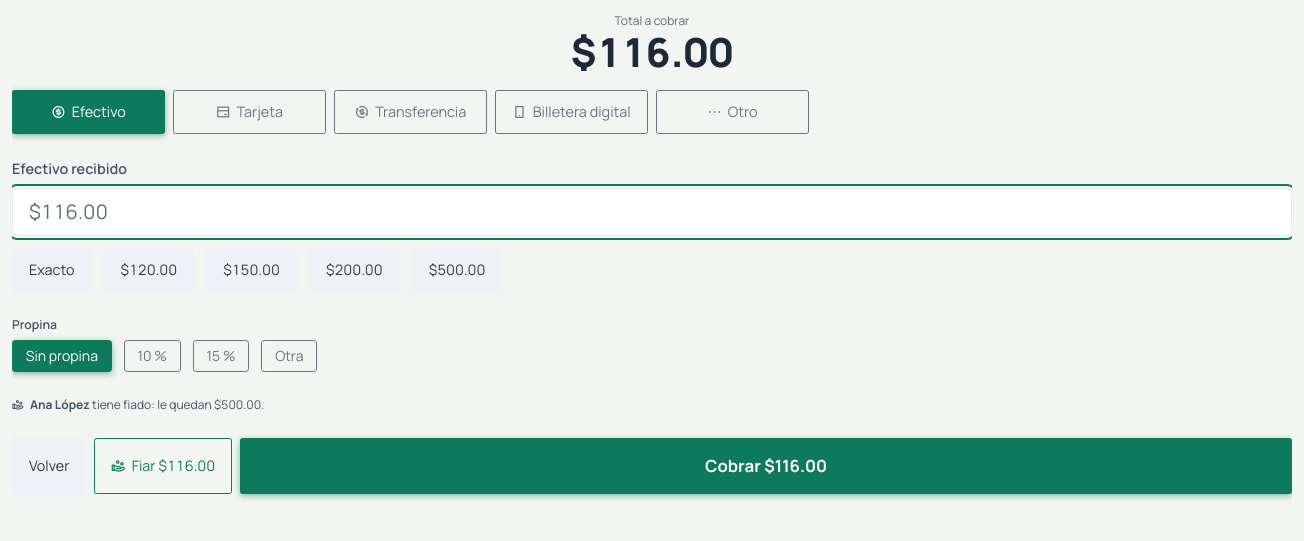
Test: ChargePanel on credit (fiado) › asks to take the tip away: a tip has no payment to go with
This screenshot has width=1304, height=541.
Click the radio button labelled "10 %" at (152, 356), box 124,340 -> 181,372
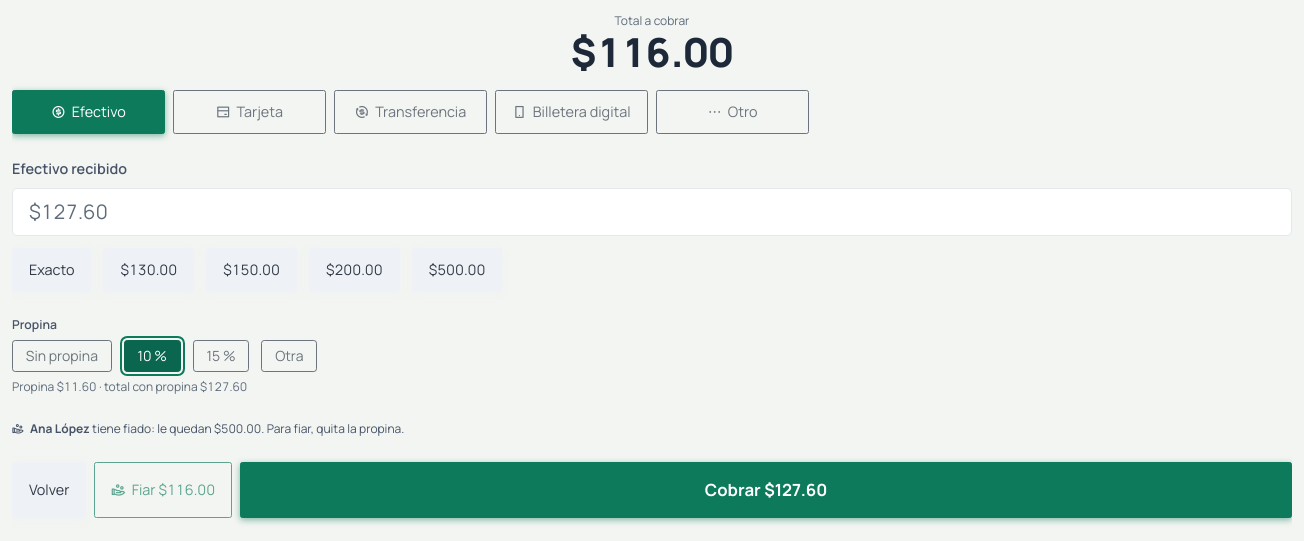
Now the button "Fiar $116.00" is disabled, box 94,462 -> 232,518
Now the text "quita la propina" is shown, box 264,420 -> 404,437
